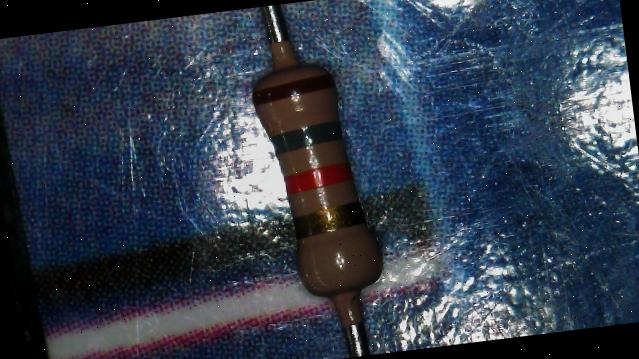brown: (255, 74, 338, 101)
gold: (294, 204, 364, 231)
grey: (268, 122, 344, 150)
orange: (287, 164, 350, 190)
resistor: (220, 36, 417, 322)
